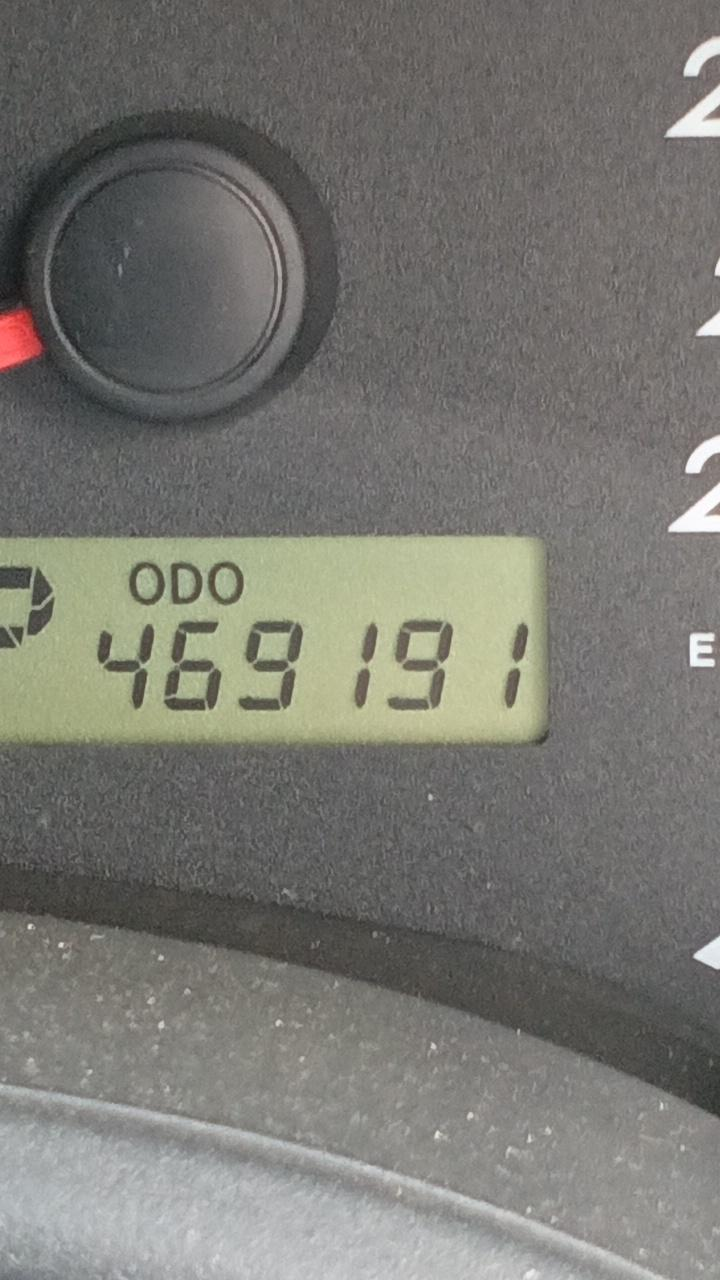1: (500, 619, 532, 710), (348, 621, 380, 711)
4: (95, 622, 155, 712)
6: (162, 619, 225, 713)
9: (236, 619, 305, 711), (385, 620, 454, 712)
X: (0, 560, 58, 674), (207, 561, 246, 607), (127, 560, 165, 607), (170, 562, 204, 607)
odometer: (0, 537, 551, 748)
